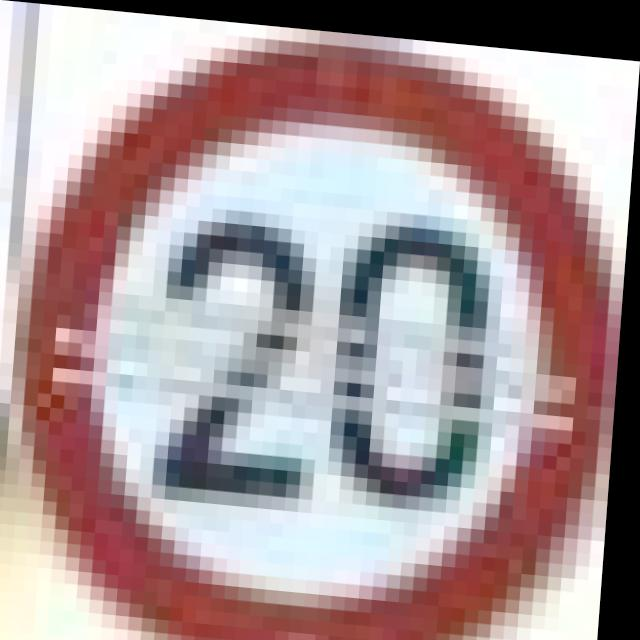SPEED_LIMIT_20: (0, 1, 640, 640)
